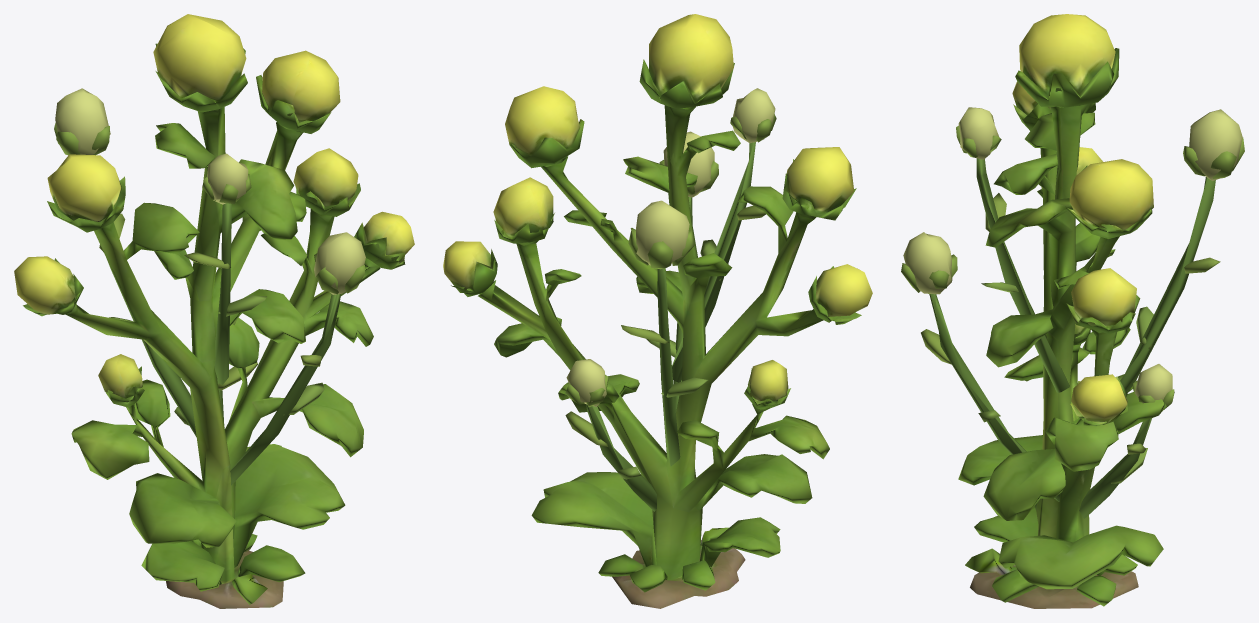
3 renders of one model, left to right at view 1: azimuth 30°, elevation 25°; view 2: azimuth 150°, elevation 25°; view 3: azimuth 270°, elevation 25°, orthographic.
Visible parts, largest first — view 1: tripo_node_be2e4e5c-f0f2-42cc-b702-3633f48f933a, 외형 세부; view 2: tripo_node_be2e4e5c-f0f2-42cc-b702-3633f48f933a, 외형 세부; view 3: tripo_node_be2e4e5c-f0f2-42cc-b702-3633f48f933a, 외형 세부.
Boxes of the visible parts, x1=… form: tripo_node_be2e4e5c-f0f2-42cc-b702-3633f48f933a: x1=14, y1=14, x2=414, y2=608; 외형 세부: x1=54, y1=88, x2=365, y2=485; tripo_node_be2e4e5c-f0f2-42cc-b702-3633f48f933a: x1=443, y1=14, x2=872, y2=608; 외형 세부: x1=565, y1=88, x2=776, y2=511; tripo_node_be2e4e5c-f0f2-42cc-b702-3633f48f933a: x1=958, y1=14, x2=1166, y2=608; 외형 세부: x1=901, y1=107, x2=1244, y2=518.
Size of the model in its own units: 0.6369 by 0.84 by 0.4689.
2 materials, 1 textured.
